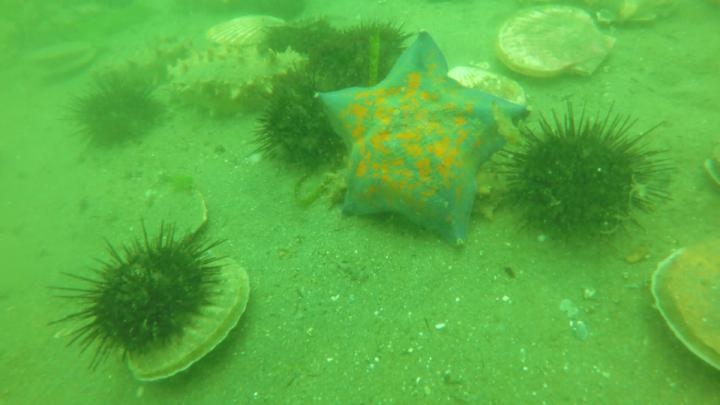echinus: (45, 220, 231, 373), (498, 103, 677, 249), (68, 69, 165, 157), (259, 72, 343, 172), (312, 16, 416, 95), (265, 18, 344, 67)
holothurian: (320, 160, 517, 219), (168, 52, 308, 122), (114, 31, 195, 85)
scallop: (131, 253, 256, 387), (648, 217, 720, 382), (495, 4, 620, 82), (446, 65, 531, 112), (207, 12, 291, 49), (31, 41, 102, 80)
starfish: (314, 31, 530, 242)
